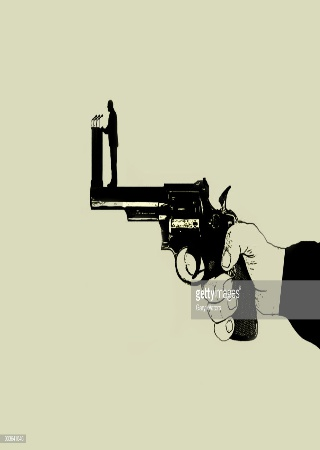handgun: (83, 92, 262, 344)
